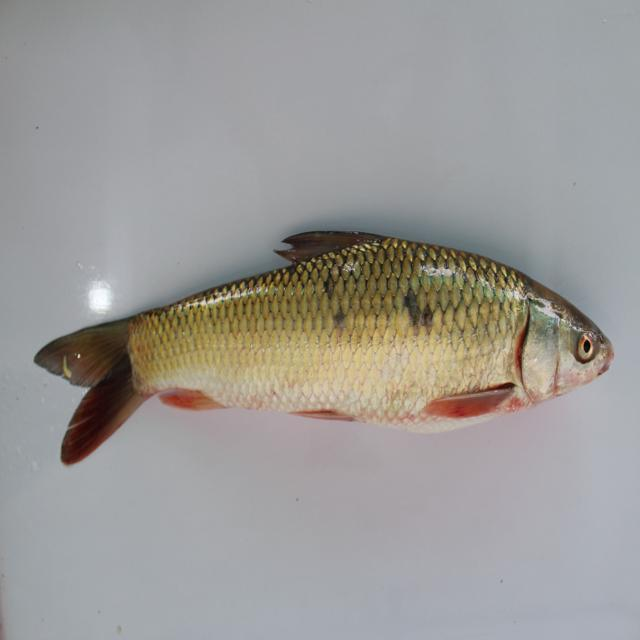Mori: (30, 223, 622, 470)
